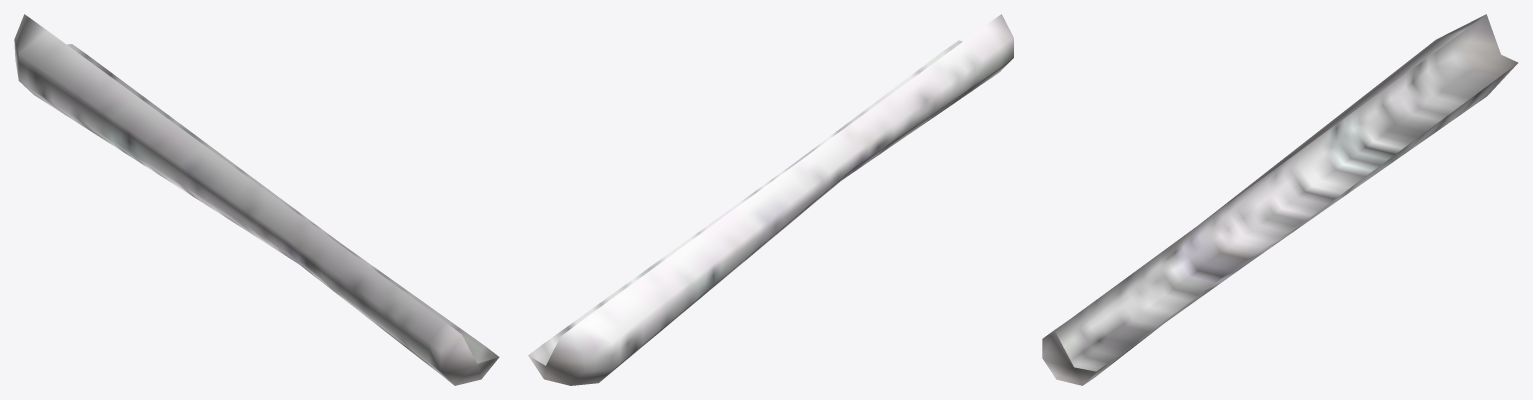
3 views of the same model, side by side, from view 1: azimuth 30°, elevation 25°; view 2: azimuth 150°, elevation 25°; view 3: azimuth 330°, elevation 25° (orthographic). The views are drawn at different scales.
Visible parts, largest first — view 1: wg_l_c_st; view 2: wg_l_c_st; view 3: wg_l_c_st.
Part boxes in pixels (x1=…): wg_l_c_st: x1=14, y1=14, x2=499, y2=385; wg_l_c_st: x1=528, y1=14, x2=1013, y2=385; wg_l_c_st: x1=1042, y1=14, x2=1518, y2=385.
Bounding box in the file's own units: 0.2121 × 0.1771 × 2.34.
Materials: 1 (1 with a texture image).
